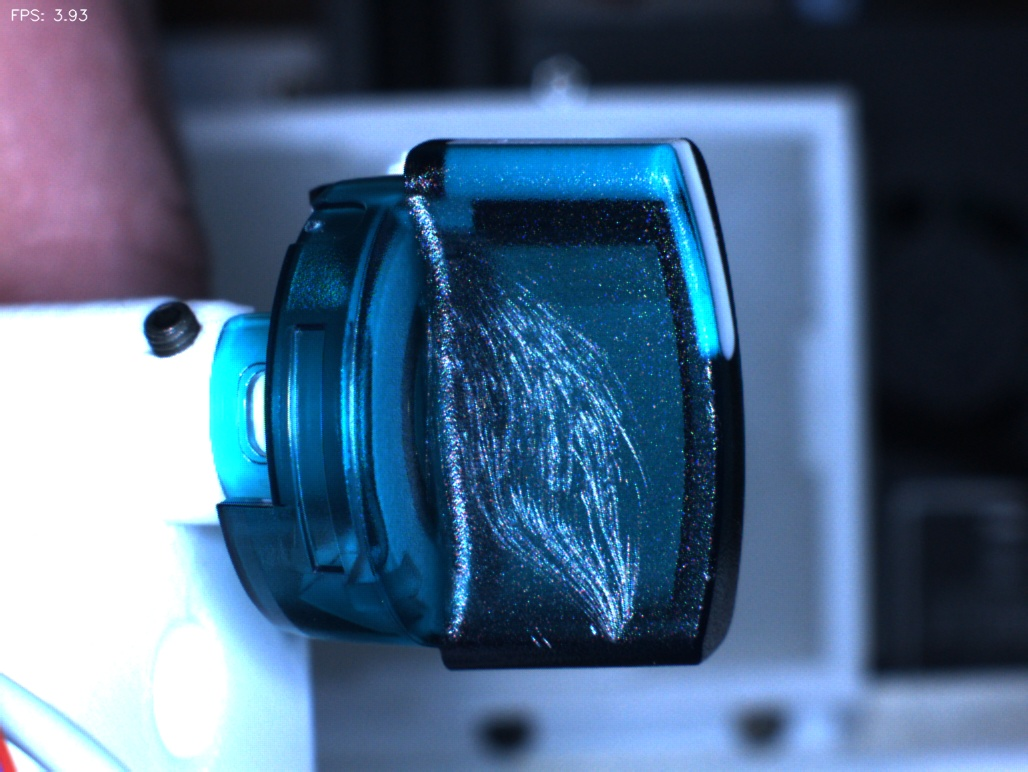Givrage: (443, 252, 662, 645)
